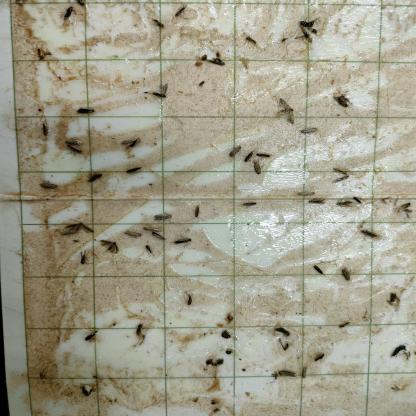prays_oleae: (34, 170, 66, 200), (61, 215, 97, 240), (294, 14, 322, 46), (275, 95, 297, 129), (142, 82, 173, 102), (270, 364, 298, 386), (331, 85, 354, 110), (387, 340, 410, 365), (116, 129, 142, 151), (100, 235, 122, 259), (144, 223, 168, 242), (224, 140, 241, 164), (75, 99, 97, 117), (172, 3, 192, 22), (125, 161, 143, 182), (82, 328, 102, 346), (58, 6, 80, 21), (178, 292, 196, 310), (311, 260, 326, 281), (151, 208, 175, 221), (125, 227, 144, 243), (173, 234, 192, 250), (149, 13, 165, 31), (251, 158, 264, 180), (337, 265, 353, 282), (314, 344, 326, 366), (88, 170, 105, 184), (191, 200, 201, 221), (242, 198, 260, 209)
